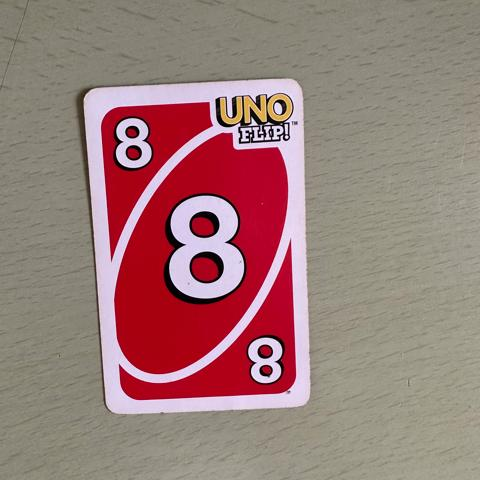4_yellow: (157, 189, 249, 307), (109, 112, 156, 169), (244, 334, 291, 388)
